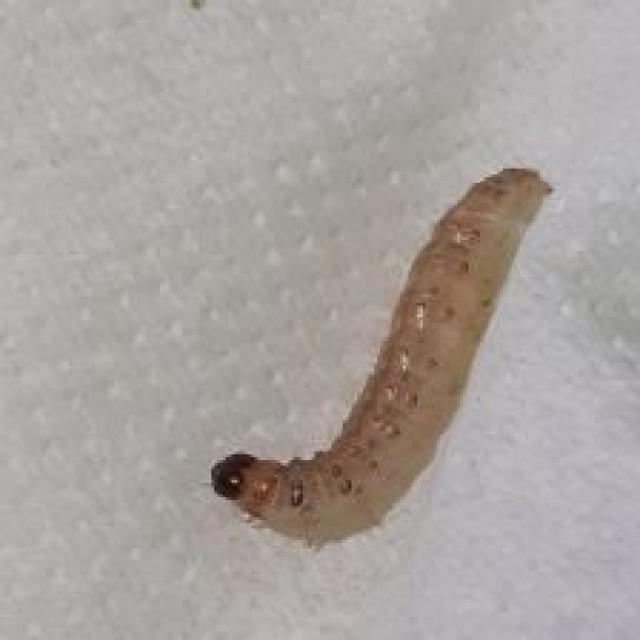white mucus: (185, 141, 593, 557)
